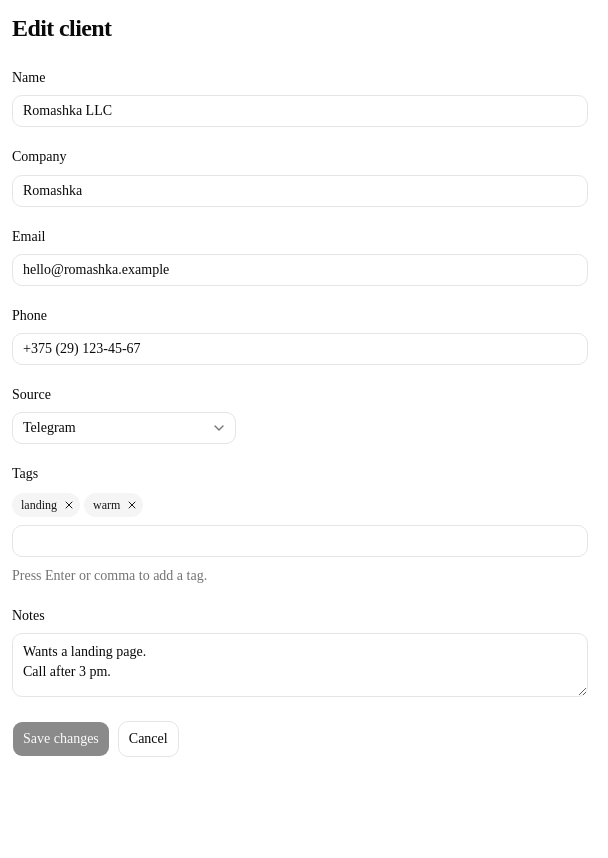
it: client form › edit › should say the client no longer exists when the save answers 404
Step 1. Type " Group" into the field labelled "Company" → point(300, 190), box x1=12 y1=174 x2=588 y2=206
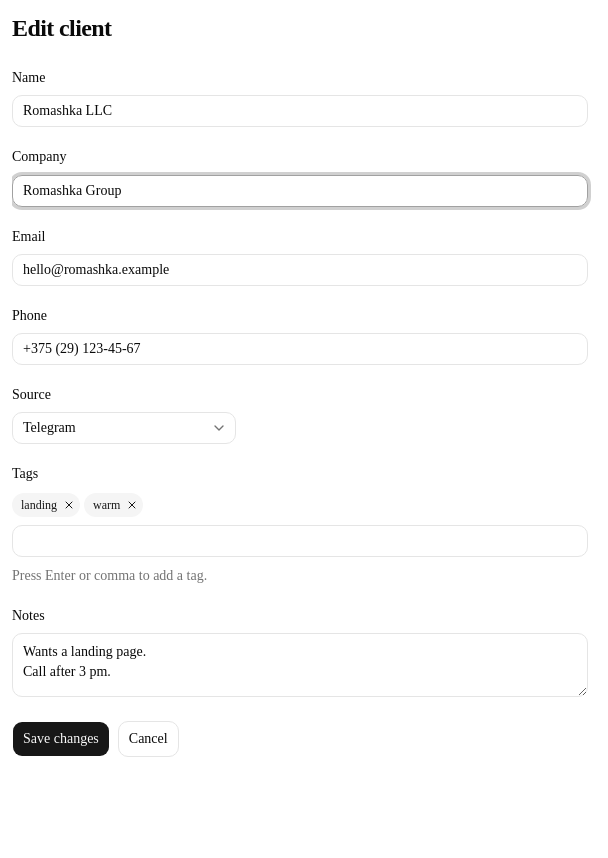
Step 2. Click the button "Save changes" → point(61, 739), box x1=12 y1=721 x2=110 y2=757
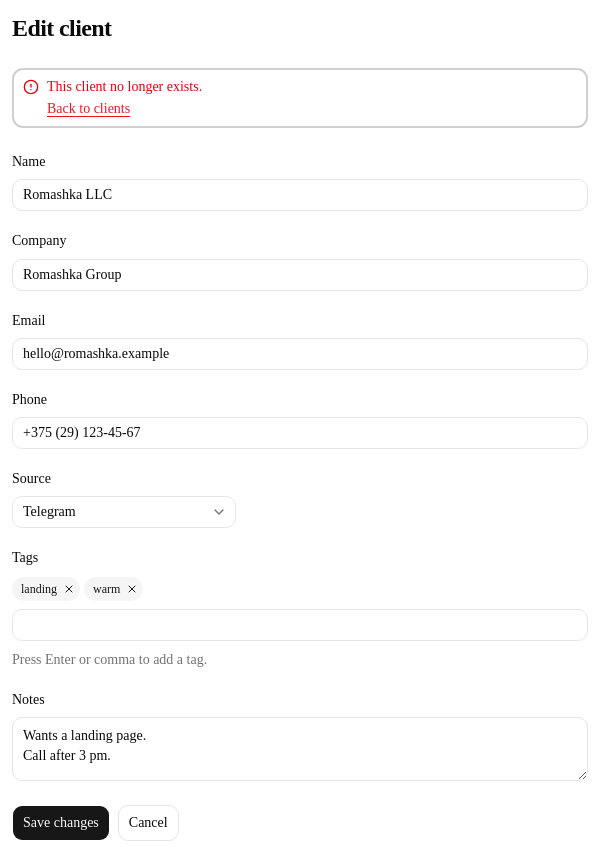
expect the message shows "This client no longer exists.": met, box x1=47 y1=79 x2=202 y2=94
